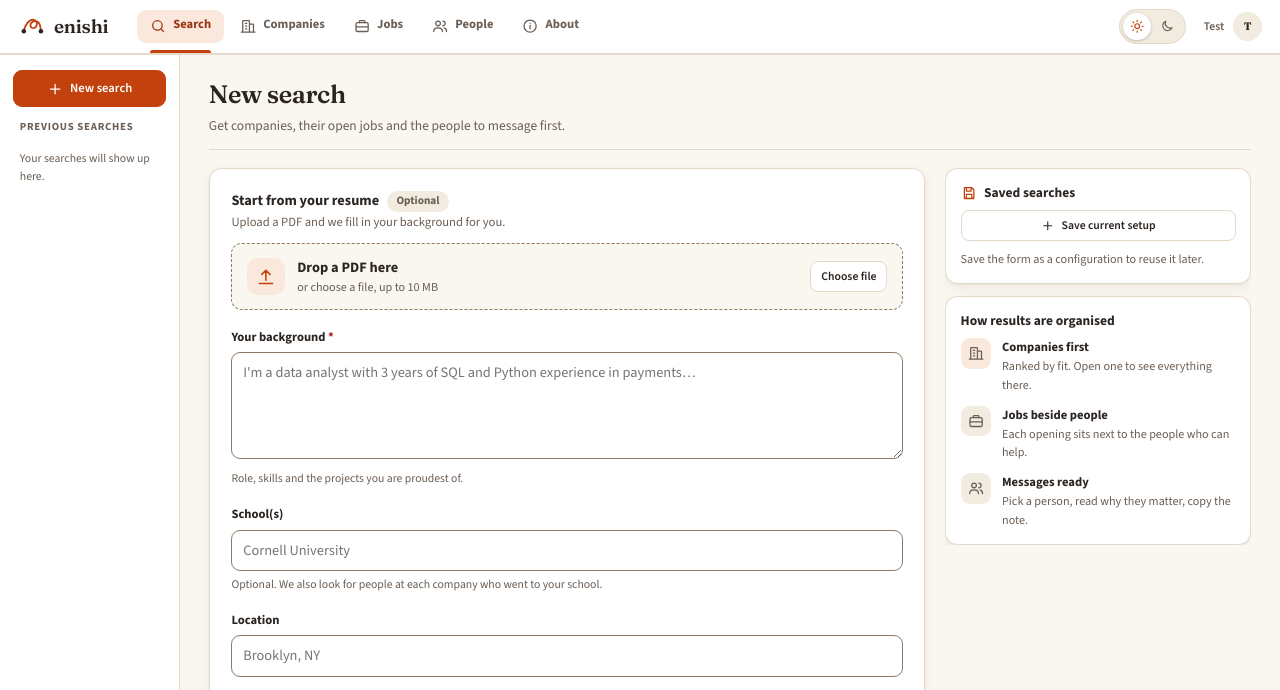
it: search configurations panel › saves the current form including the boards, then lets you name it
This screenshot has width=1280, height=690.
Type "My background" into the text box labelled "Your background *" at (567, 405), box [231,352,903,459]
(page scrolled)
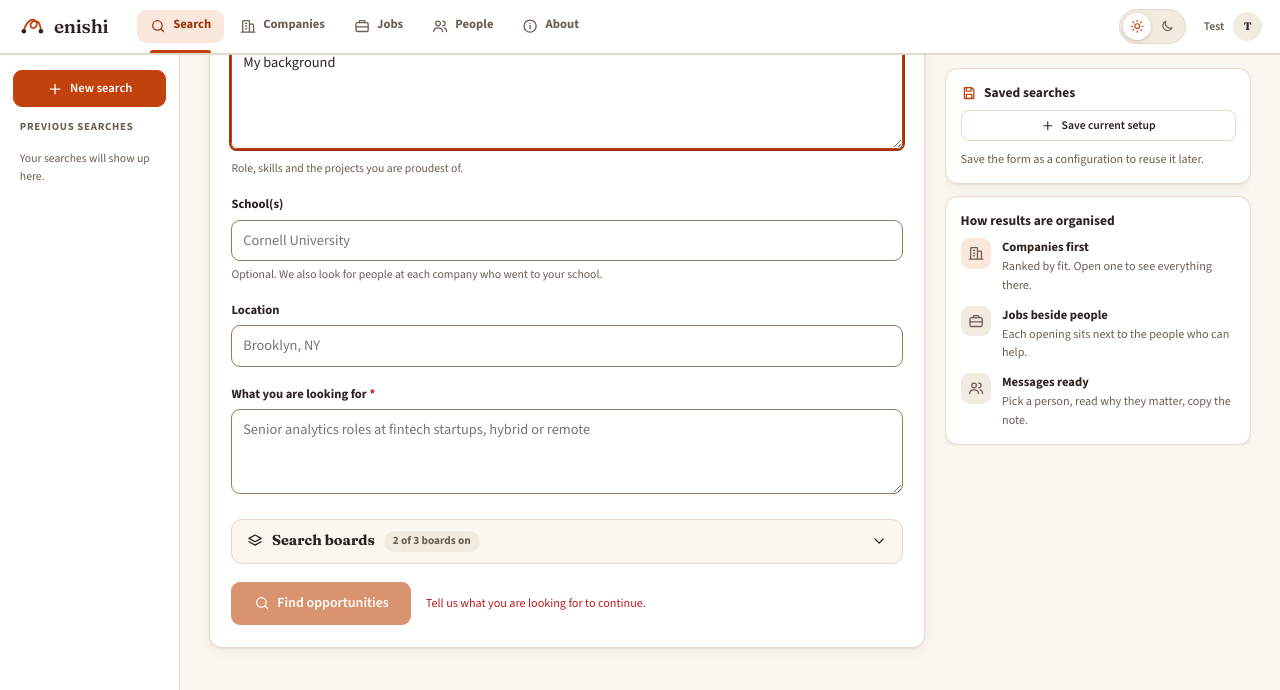
Type "Goal" into the text box labelled "What you are looking for *" at (567, 452), box [231,409,903,494]
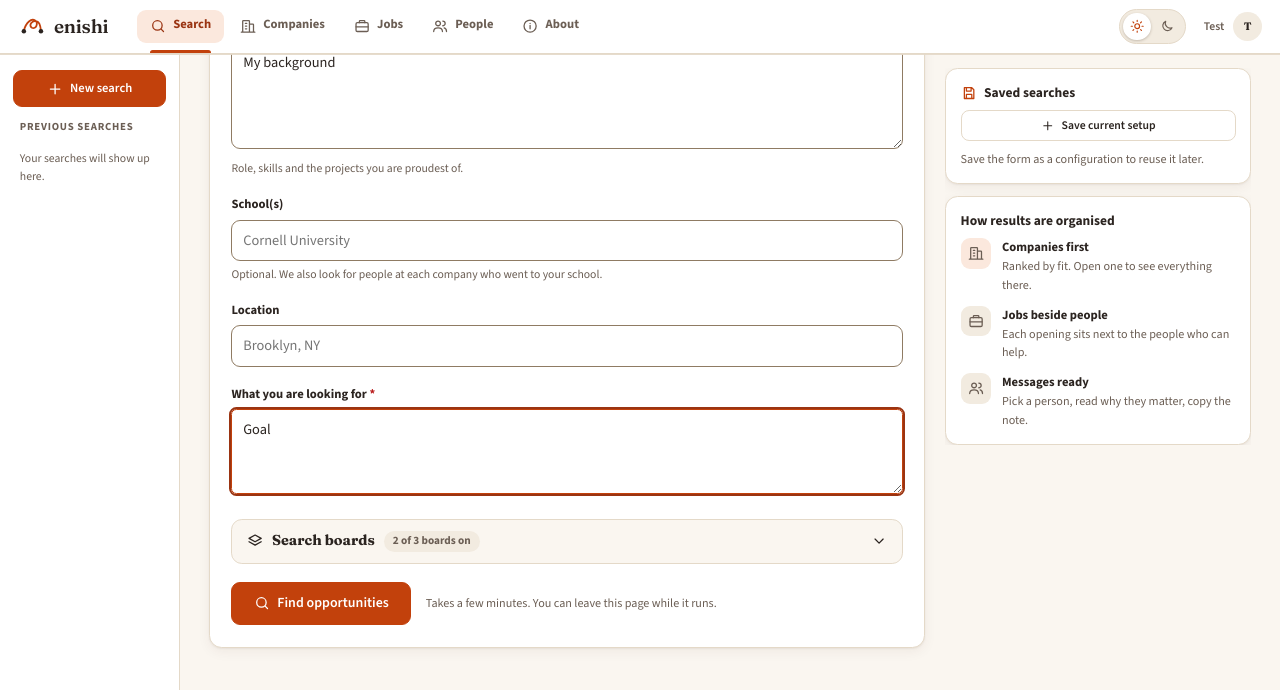
Click the button "Search boards 2 of 3 boards on" at (323, 540), box [232,520,902,563]
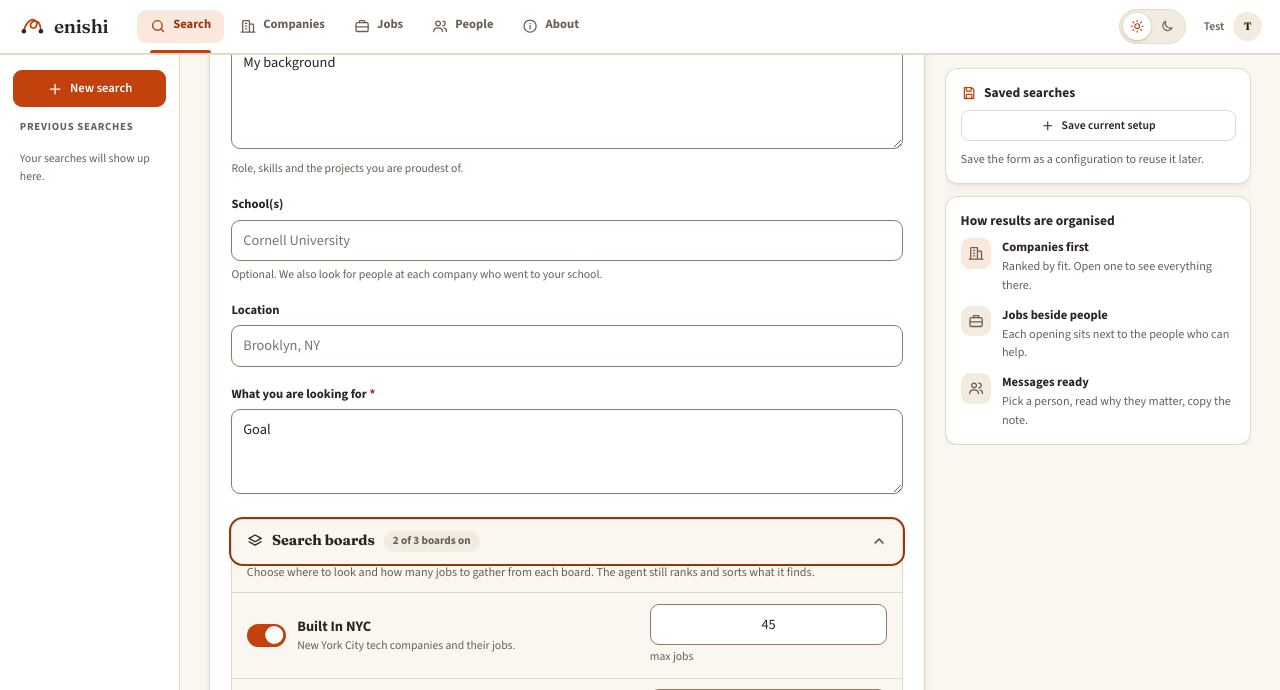
Click the switch labelled "Built In NYC" at (267, 635), box [247,624,286,647]
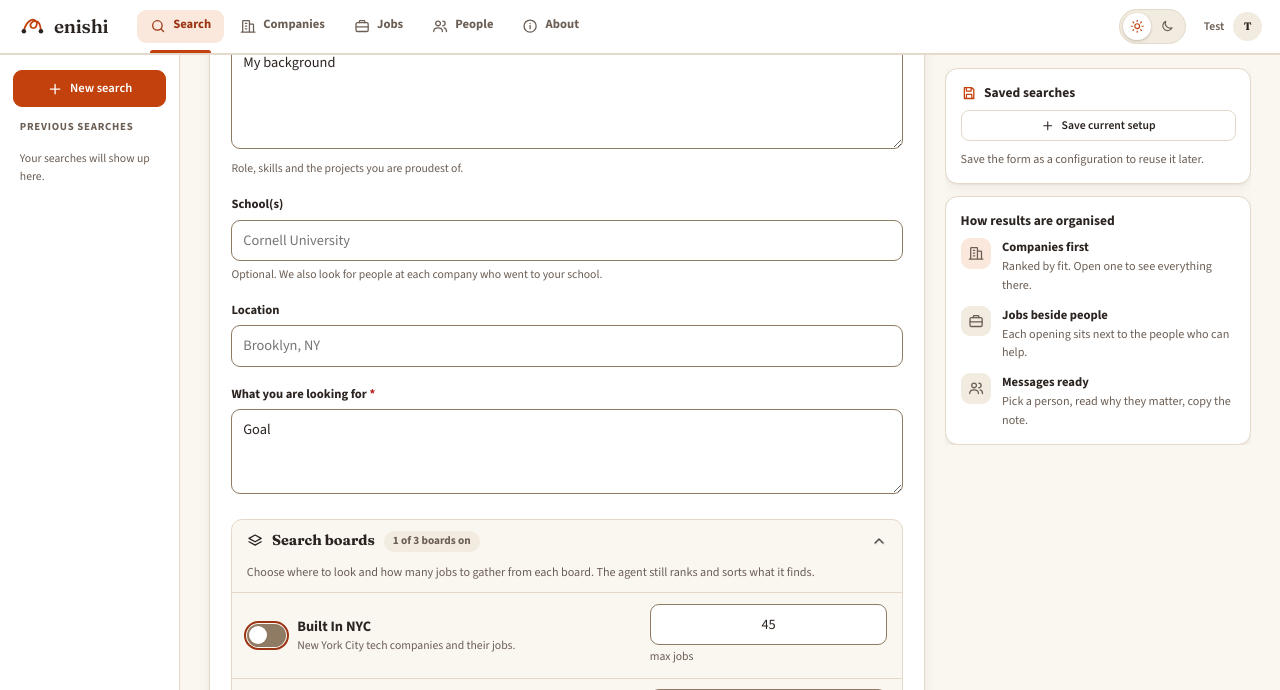
Click the button "Save current setup" at (1098, 126), box [961,110,1236,141]
(page scrolled)
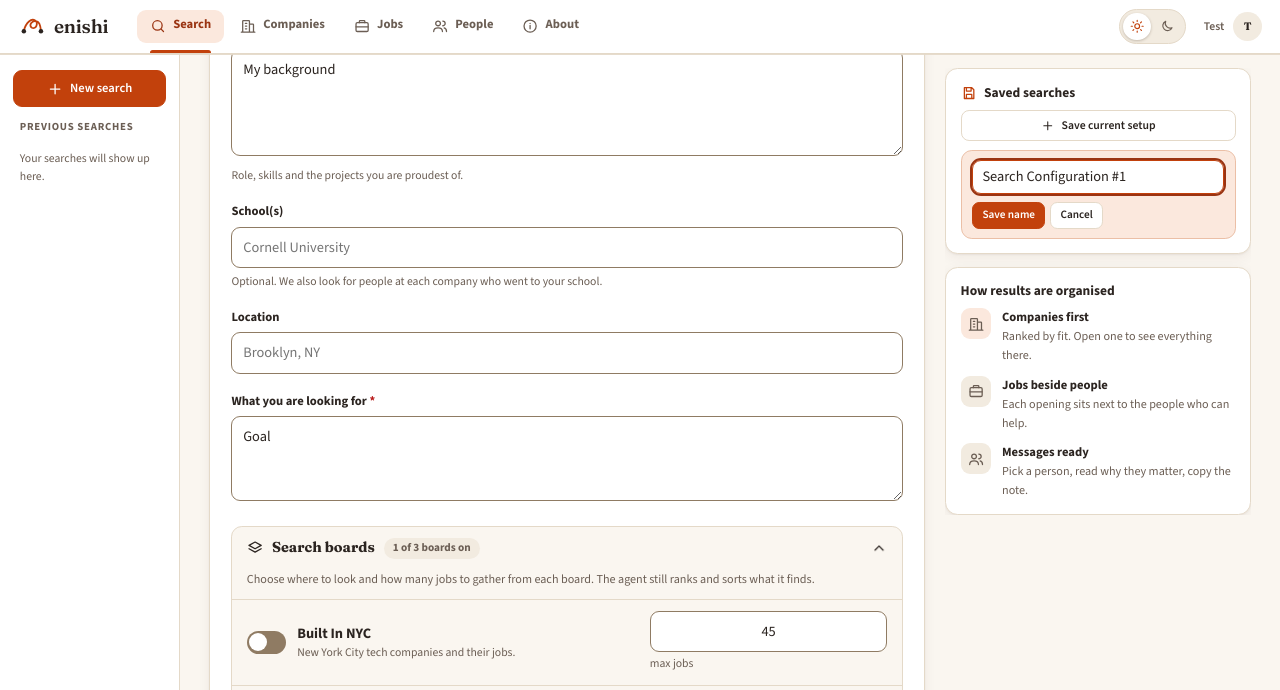
Expected: the field named "Configuration name" holds "Search Configuration #1"
Replace the text in the field named "Configuration name" with "  Fintech roles " at (1098, 177), box [972,160,1224,194]
Then press Enter
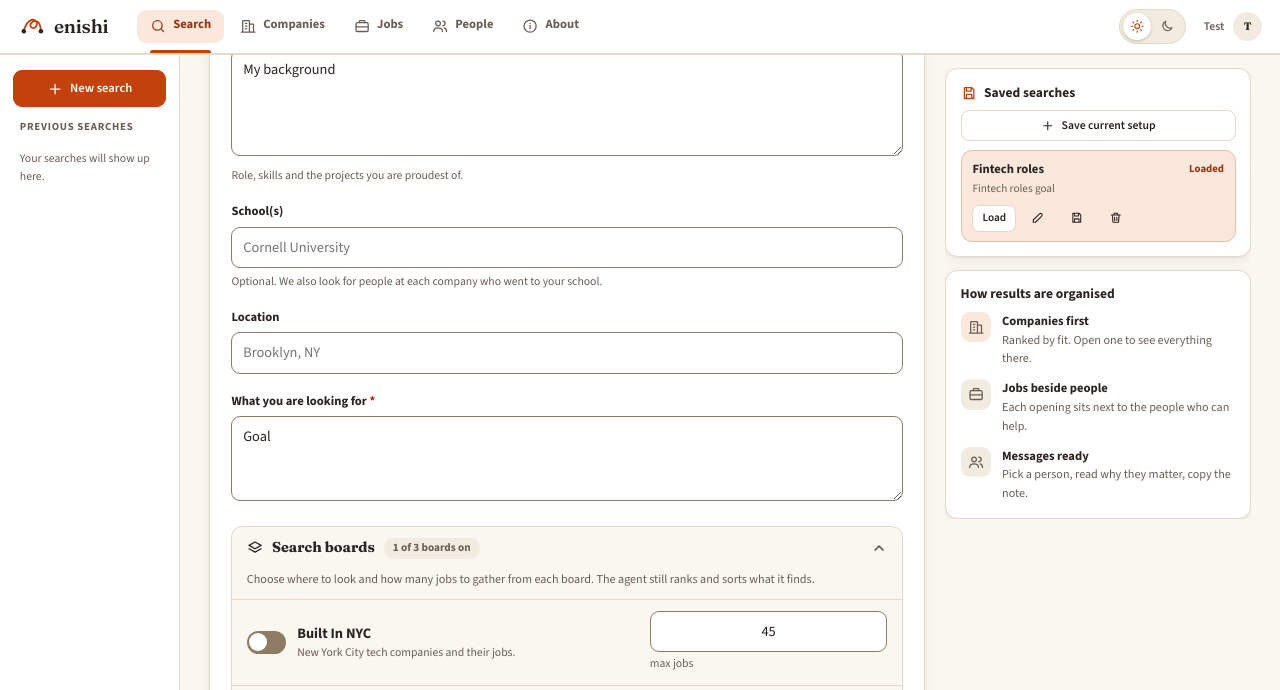
Expected: the button with aria-label "Load Fintech roles" is shown, [972,205,1016,232]
